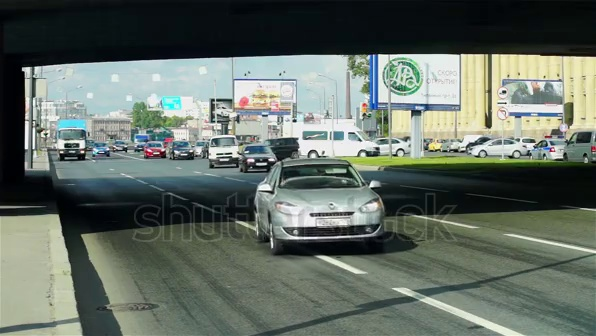licenseplate: (315, 221, 350, 234)
